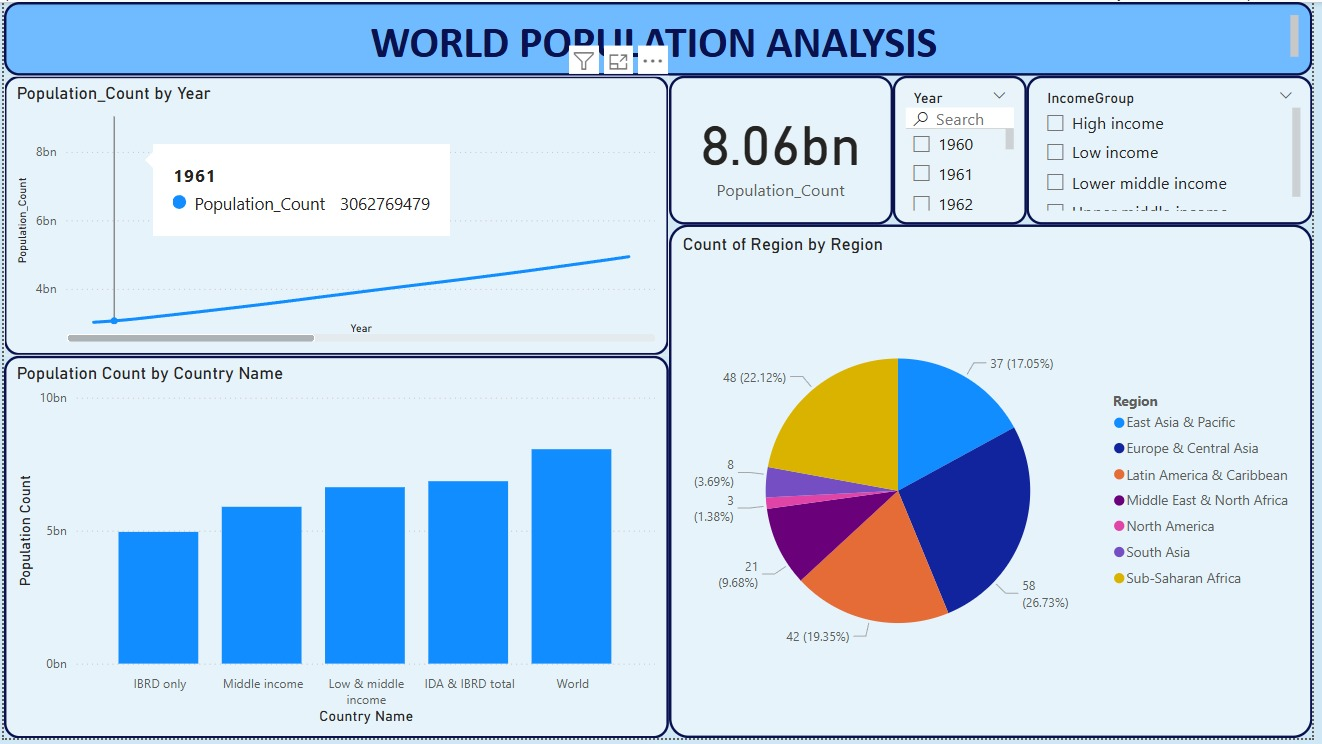

What the dashboard file says about the page in this screenshot:
{"tool":"powerbi","page":{"name":"Page 1","canvas":[1280,720],"ordinal":0},"visuals":[{"type":"slicer","fields":{"Values":["Metadata_Country_API_SP POP TOTL_DS2_en_csv_v2_87.IncomeGroup"]},"box":[1000.3,72.1,280,145.5],"z":0},{"type":"slicer","fields":{"Values":["data.Year"]},"box":[869.4,72.1,130.8,145.5],"z":1000},{"type":"pieChart","fields":{"Series":["Metadata_Country_API_SP POP TOTL_DS2_en_csv_v2_87.Region"],"Y":["CountNonNull(Metadata_Country_API_SP POP TOTL_DS2_en_csv_v2_87.Region)"]},"box":[650.5,217.7,629.8,502.6],"z":2000},{"type":"card","fields":{"Values":["Max(data.Population_Count)"]},"box":[650.5,72.1,218.9,145.5],"z":3000},{"type":"clusteredColumnChart","fields":{"Category":["data.Country Name"],"Y":["data.Top_5_Population"]},"box":[0,346.1,650.5,374.2],"z":4001},{"type":"textbox","box":[0,0,1280.3,72.1],"z":4002},{"type":"lineChart","fields":{"Category":["data.Year"],"Y":["Max(data.Population_Count)"]},"box":[0,72.1,650.5,273.9],"z":4003}]}

Visuals, with their boxes in screenshot pixels (x1, y1, x2, y2):
slicer - Metadata_Country_API_SP POP TOTL_DS2_en_csv_v2_87.IncomeGroup: region(1022, 73, 1307, 222)
slicer - data.Year: region(889, 73, 1022, 222)
pieChart - Metadata_Country_API_SP POP TOTL_DS2_en_csv_v2_87.Region x CountNonNull(Metadata_Country_API_SP POP TOTL_DS2_en_csv_v2_87.Region): region(666, 222, 1307, 734)
card - Max(data.Population_Count): region(666, 73, 889, 222)
clusteredColumnChart - data.Country Name x data.Top_5_Population: region(3, 353, 666, 734)
textbox: region(3, 0, 1307, 73)
lineChart - data.Year x Max(data.Population_Count): region(3, 73, 666, 352)
